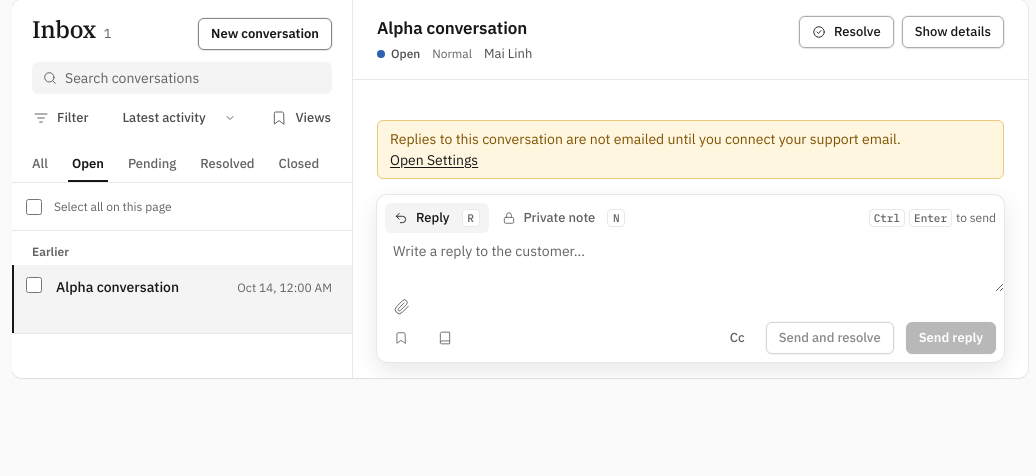
Test: a web form conversation with no email connected can still be answered, and the box says to connect email
Type "Hello" into the text box named "Message body" at (690, 263), box [377,233,1004,292]
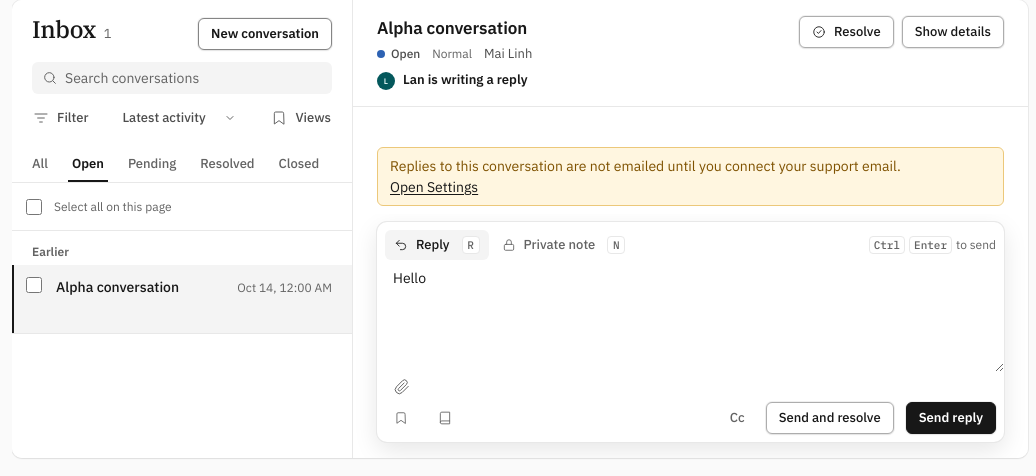
expect the button "Send reply" is enabled: met, box [906,402,996,434]
